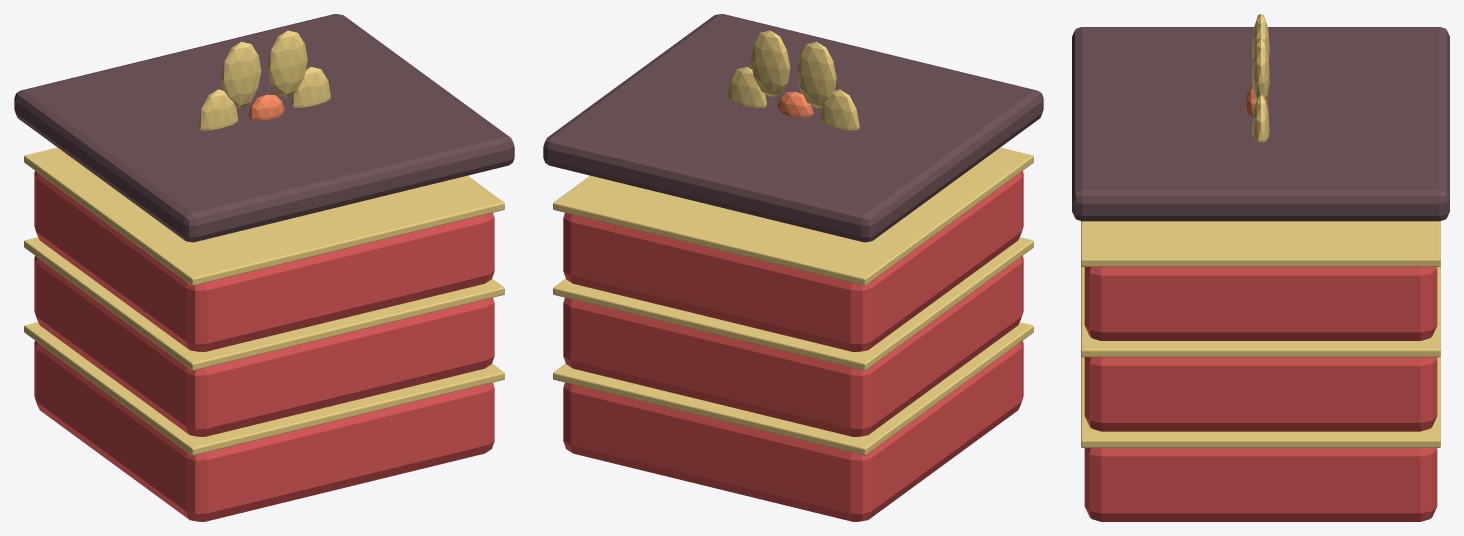
The model's file is kitchen_jubako.glb.
3 views of the same model, side by side, from view 1: azimuth 30°, elevation 25°; view 2: azimuth 150°, elevation 25°; view 3: azimuth 270°, elevation 25° (orthographic). The views are drawn at different scales.
Visible parts, largest first — view 1: Black jubako top lid, Jubako lacquered tier, Jubako lacquered tier.002, Jubako lacquered tier.001, Jubako thin gold seam.002, Jubako thin gold seam.001, Jubako thin gold seam, Gold chrysanthemum on lid_petal01, Gold chrysanthemum on lid_petal02, Gold chrysanthemum on lid_petal03, Gold chrysanthemum on lid_petal00, Gold chrysanthemum on lid_center; view 2: Black jubako top lid, Jubako lacquered tier, Jubako lacquered tier.002, Jubako lacquered tier.001, Jubako thin gold seam.002, Jubako thin gold seam.001, Jubako thin gold seam, Gold chrysanthemum on lid_petal01, Gold chrysanthemum on lid_petal02, Gold chrysanthemum on lid_petal03, Gold chrysanthemum on lid_petal00, Gold chrysanthemum on lid_center; view 3: Black jubako top lid, Jubako lacquered tier.001, Jubako lacquered tier.002, Jubako lacquered tier, Jubako thin gold seam.002, Jubako thin gold seam.001, Jubako thin gold seam, Gold chrysanthemum on lid_petal01, Gold chrysanthemum on lid_petal00, Gold chrysanthemum on lid_petal02.
Part boxes in pixels (x1=…): Black jubako top lid: x1=14, y1=14, x2=514, y2=242; Jubako lacquered tier: x1=34, y1=340, x2=494, y2=521; Jubako lacquered tier.002: x1=34, y1=171, x2=494, y2=351; Jubako lacquered tier.001: x1=34, y1=256, x2=494, y2=436; Jubako thin gold seam.002: x1=24, y1=147, x2=504, y2=285; Jubako thin gold seam.001: x1=24, y1=237, x2=504, y2=370; Jubako thin gold seam: x1=24, y1=322, x2=504, y2=455; Gold chrysanthemum on lid_petal01: x1=267, y1=30, x2=307, y2=96; Gold chrysanthemum on lid_petal02: x1=221, y1=41, x2=261, y2=108; Gold chrysanthemum on lid_petal03: x1=198, y1=89, x2=237, y2=130; Gold chrysanthemum on lid_petal00: x1=291, y1=67, x2=330, y2=107; Gold chrysanthemum on lid_center: x1=248, y1=94, x2=284, y2=120; Black jubako top lid: x1=543, y1=14, x2=1043, y2=242; Jubako lacquered tier: x1=563, y1=340, x2=1023, y2=521; Jubako lacquered tier.002: x1=563, y1=171, x2=1023, y2=351; Jubako lacquered tier.001: x1=563, y1=256, x2=1023, y2=436; Jubako thin gold seam.002: x1=553, y1=147, x2=1033, y2=285; Jubako thin gold seam.001: x1=553, y1=237, x2=1033, y2=370; Jubako thin gold seam: x1=553, y1=322, x2=1033, y2=455; Gold chrysanthemum on lid_petal01: x1=750, y1=30, x2=790, y2=96; Gold chrysanthemum on lid_petal02: x1=796, y1=41, x2=836, y2=108; Gold chrysanthemum on lid_petal03: x1=820, y1=89, x2=859, y2=130; Gold chrysanthemum on lid_petal00: x1=727, y1=67, x2=766, y2=107; Gold chrysanthemum on lid_center: x1=777, y1=91, x2=813, y2=117; Black jubako top lid: x1=1072, y1=27, x2=1449, y2=221; Jubako lacquered tier.001: x1=1084, y1=357, x2=1437, y2=431; Jubako lacquered tier.002: x1=1084, y1=267, x2=1437, y2=340; Jubako lacquered tier: x1=1084, y1=448, x2=1437, y2=521; Jubako thin gold seam.002: x1=1081, y1=221, x2=1440, y2=266; Jubako thin gold seam.001: x1=1081, y1=266, x2=1440, y2=357; Jubako thin gold seam: x1=1081, y1=356, x2=1440, y2=447; Gold chrysanthemum on lid_petal01: x1=1252, y1=38, x2=1269, y2=101; Gold chrysanthemum on lid_petal00: x1=1252, y1=95, x2=1269, y2=142; Gold chrysanthemum on lid_petal02: x1=1252, y1=14, x2=1269, y2=59.
Bounding box in the file's own units: 1.7 × 1.95 × 1.58.
